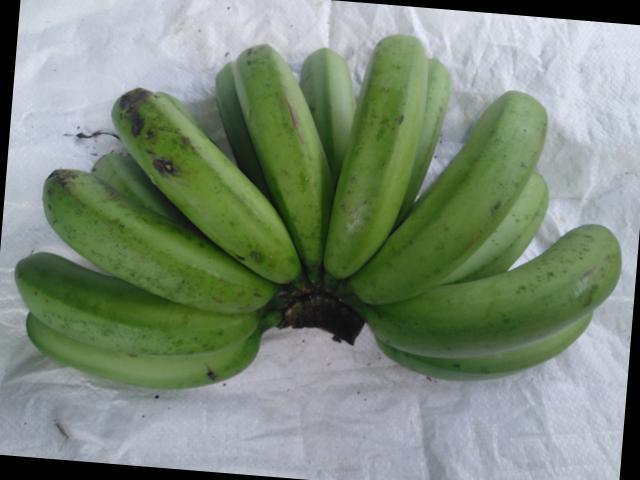unripe: (369, 87, 553, 316), (107, 80, 294, 280), (35, 159, 268, 306), (371, 216, 618, 351), (226, 37, 344, 277), (321, 22, 421, 293), (0, 252, 242, 351)
